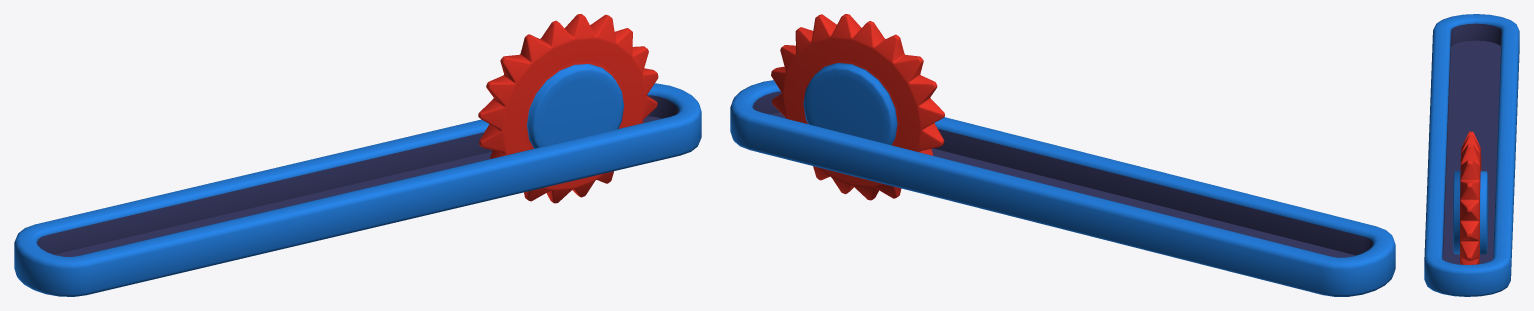
The model's file is saw_obstacle.fbx.
The picture shows the model from 3 angles, left to right: view 1: azimuth 30°, elevation 25°; view 2: azimuth 150°, elevation 25°; view 3: azimuth 270°, elevation 25°; orthographic projection. The views are drawn at different scales.
Parts seen in each view (by area): view 1: base, saw_obstacle; view 2: base, saw_obstacle; view 3: base, saw_obstacle.
Boxes of the visible parts, left/top/right/bottom form: base: left=14, top=83, right=701, bottom=296; saw_obstacle: left=478, top=14, right=658, bottom=203; base: left=730, top=80, right=1395, bottom=296; saw_obstacle: left=771, top=14, right=944, bottom=200; base: left=1424, top=14, right=1519, bottom=296; saw_obstacle: left=1453, top=131, right=1488, bottom=264.
Size of the model in its own units: 713 by 186 by 111.
